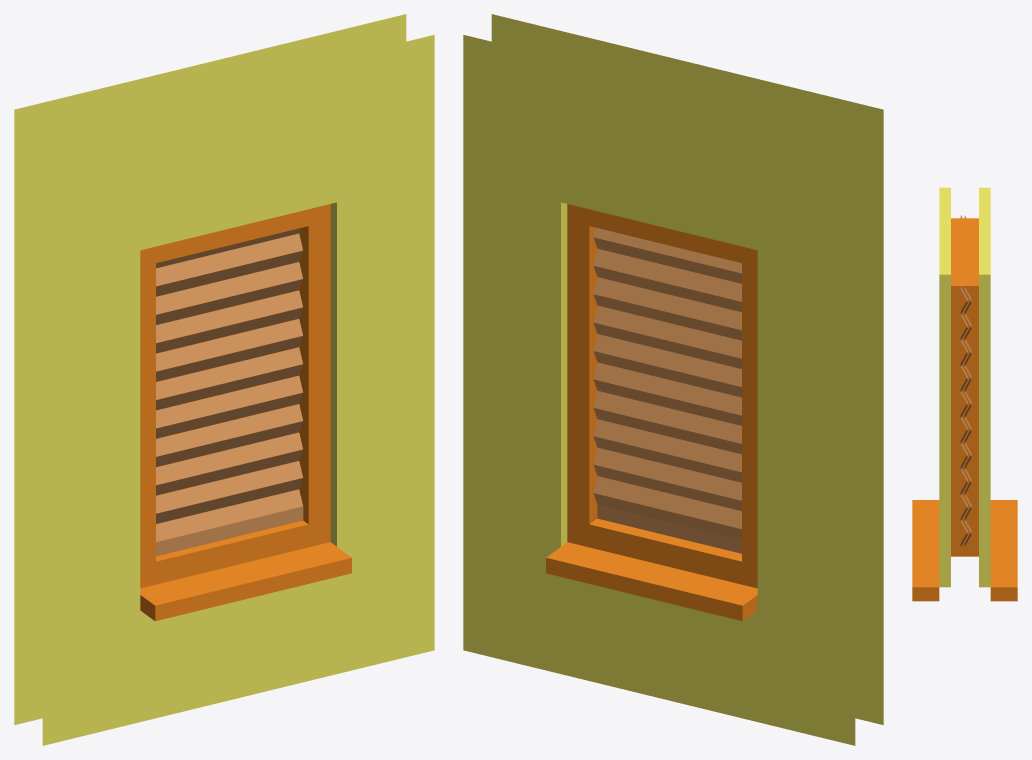
Rendered from MD_Window_NotShootable.fbx.
3 views of the same model, side by side, from view 1: azimuth 30°, elevation 25°; view 2: azimuth 150°, elevation 25°; view 3: azimuth 270°, elevation 25° (orthographic). The views are drawn at different scales.
Parts seen in each view (by area): view 1: MD_Window_NotShootable; view 2: MD_Window_NotShootable; view 3: MD_Window_NotShootable.
Part boxes in pixels (bbox=[...]): MD_Window_NotShootable: bbox=[14, 14, 434, 745]; MD_Window_NotShootable: bbox=[463, 14, 883, 745]; MD_Window_NotShootable: bbox=[912, 187, 1017, 601].
Bounding box in the file's own units: 200 × 300 × 51.37.
